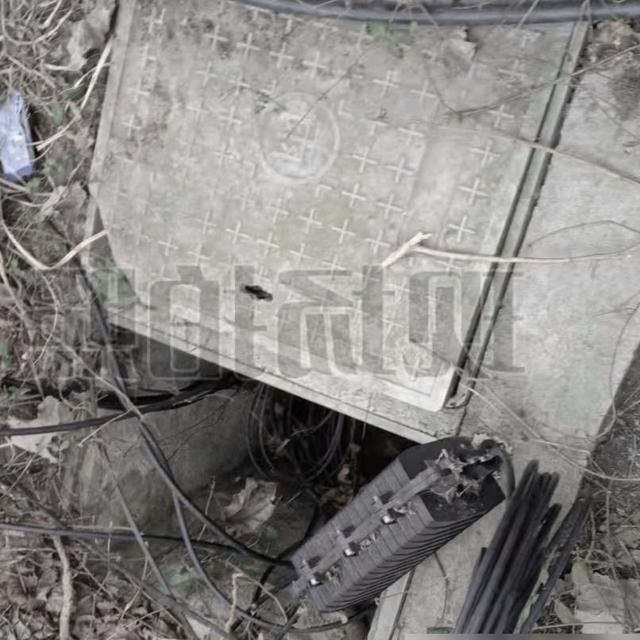lose: (39, 0, 599, 640)
